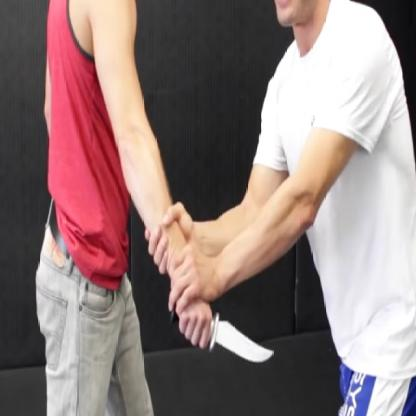knife: (169, 310, 278, 376)
